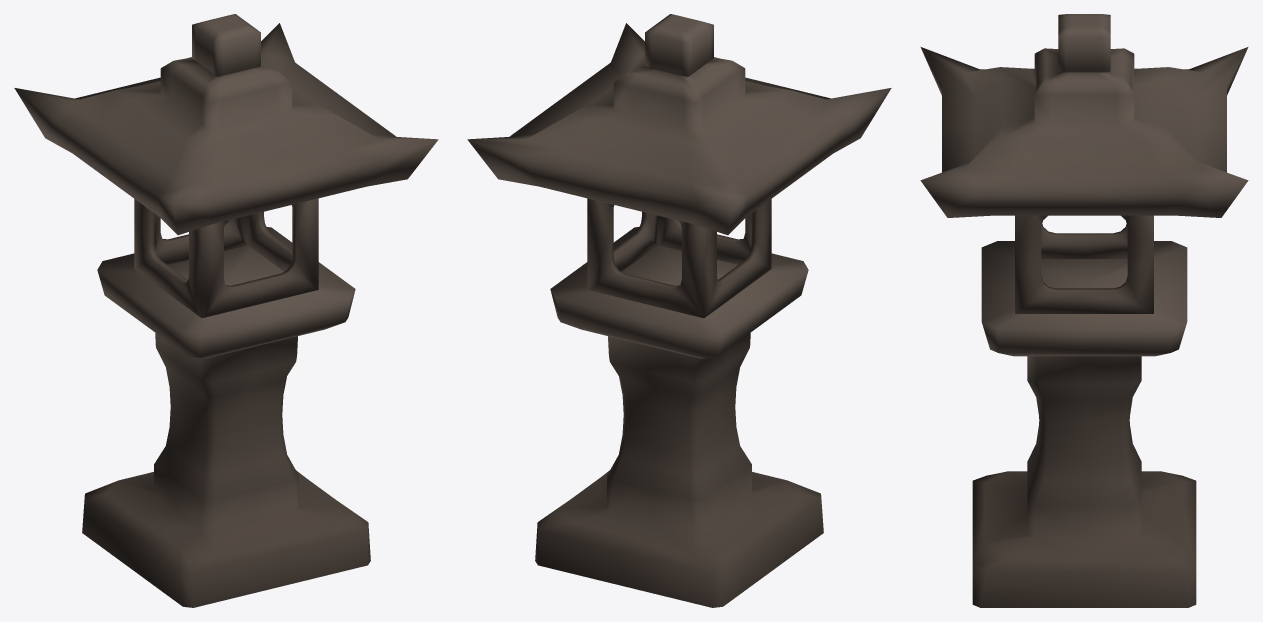
File: Lamp.fbx
3 renders of one model, left to right at view 1: azimuth 30°, elevation 25°; view 2: azimuth 150°, elevation 25°; view 3: azimuth 270°, elevation 25°, orthographic. The views are drawn at different scales.
Parts seen in each view (by area): view 1: Lamp and Bush.004; view 2: Lamp and Bush.004; view 3: Lamp and Bush.004.
Boxes of the visible parts, x1,y1,x2,y2 form: Lamp and Bush.004: (14, 14, 438, 607); Lamp and Bush.004: (467, 14, 891, 607); Lamp and Bush.004: (920, 14, 1248, 607).
Size of the model in its own units: 38.01 by 39.43 by 71.47.
